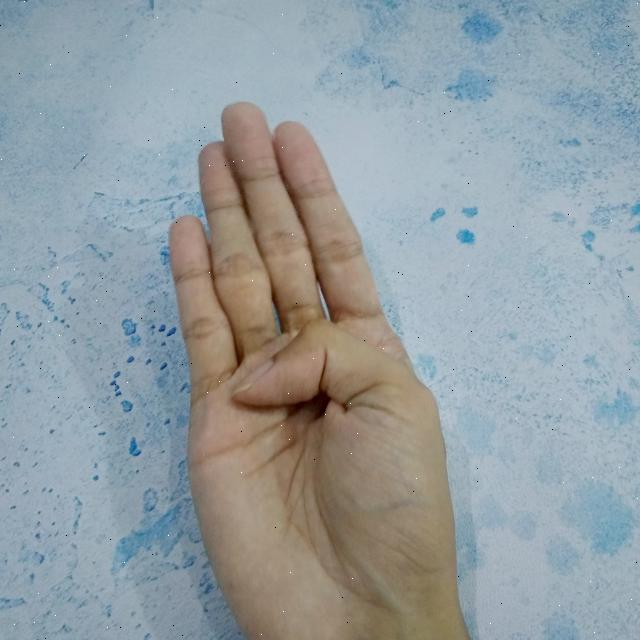B: (165, 97, 472, 640)
